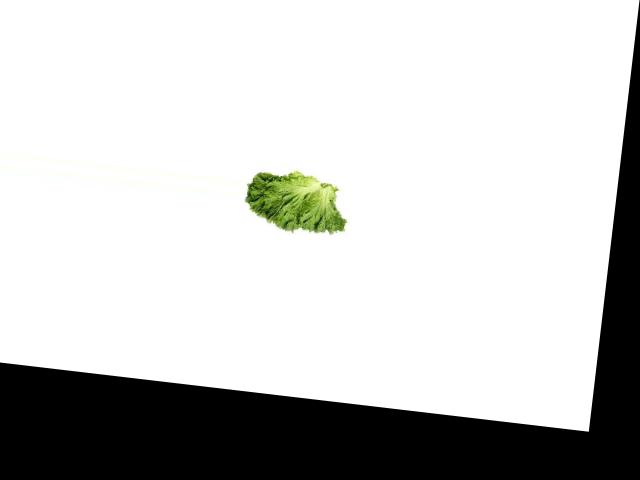lettuce: (240, 162, 351, 245)
